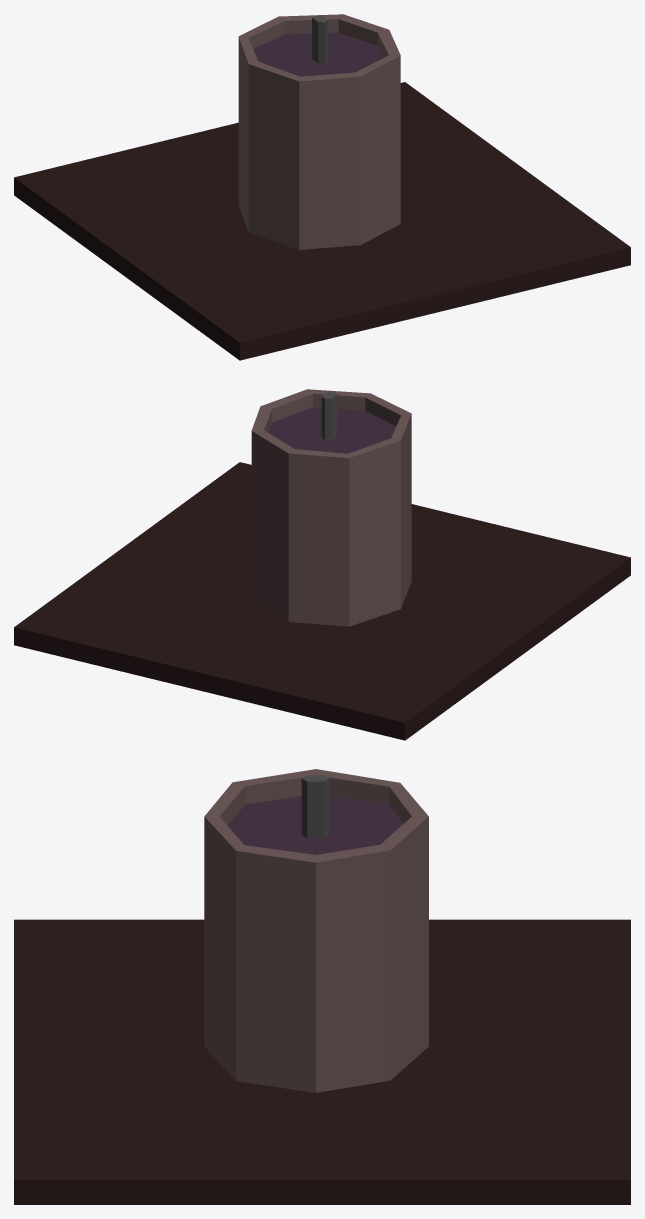
The model's file is grapepress.fbx.
The picture shows the model from 3 angles, top to bottom: view 1: azimuth 30°, elevation 25°; view 2: azimuth 150°, elevation 25°; view 3: azimuth 270°, elevation 25°; orthographic projection. The views are drawn at different scales.
Parts seen in each view (by area): view 1: Grap; view 2: Grap; view 3: Grap.
Boxes of the visible parts, x1,y1,x2,y2 form: Grap: [14, 14, 630, 360]; Grap: [14, 389, 630, 740]; Grap: [14, 769, 630, 1204].
Size of the model in its own units: 1 by 0.5238 by 1.
